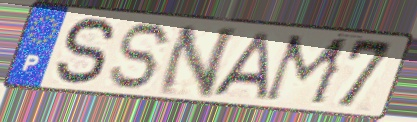7: (334, 36, 396, 112)
A: (209, 31, 272, 101)
M: (260, 32, 355, 108)
N: (153, 25, 243, 99)
S: (105, 20, 177, 92), (53, 15, 120, 88)
